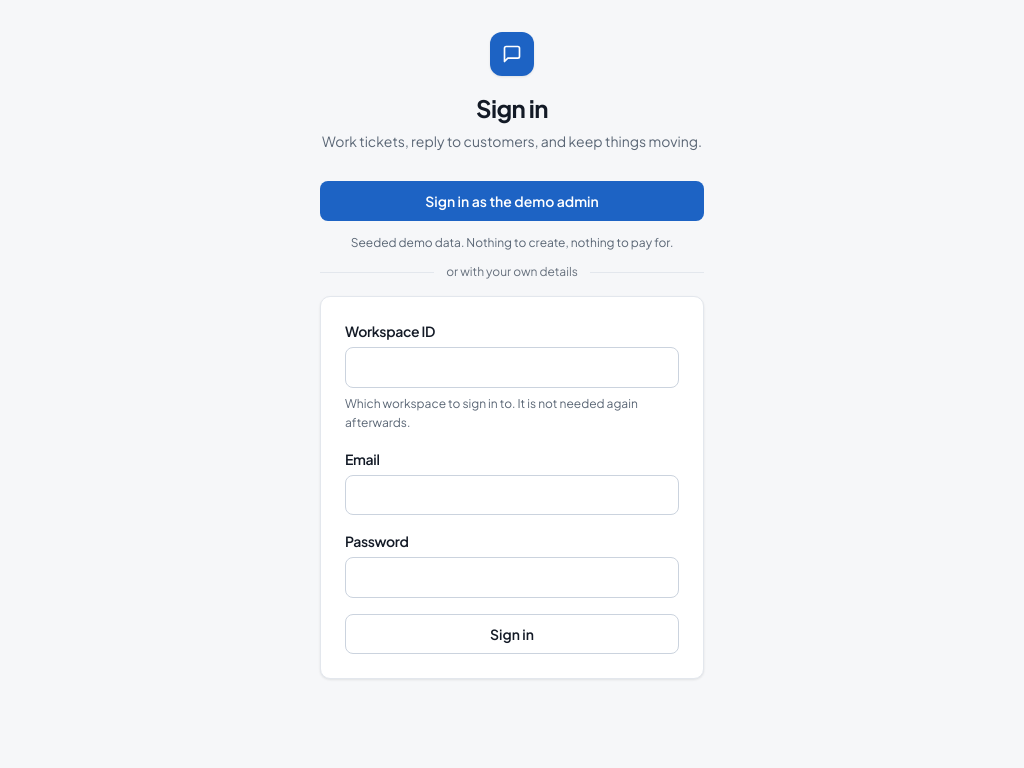
Test case: a User signing in › lands on the queue, with no further navigation to make
Type "ten_1" into the field labelled "Workspace ID" at (512, 368), box [345,347,679,388]
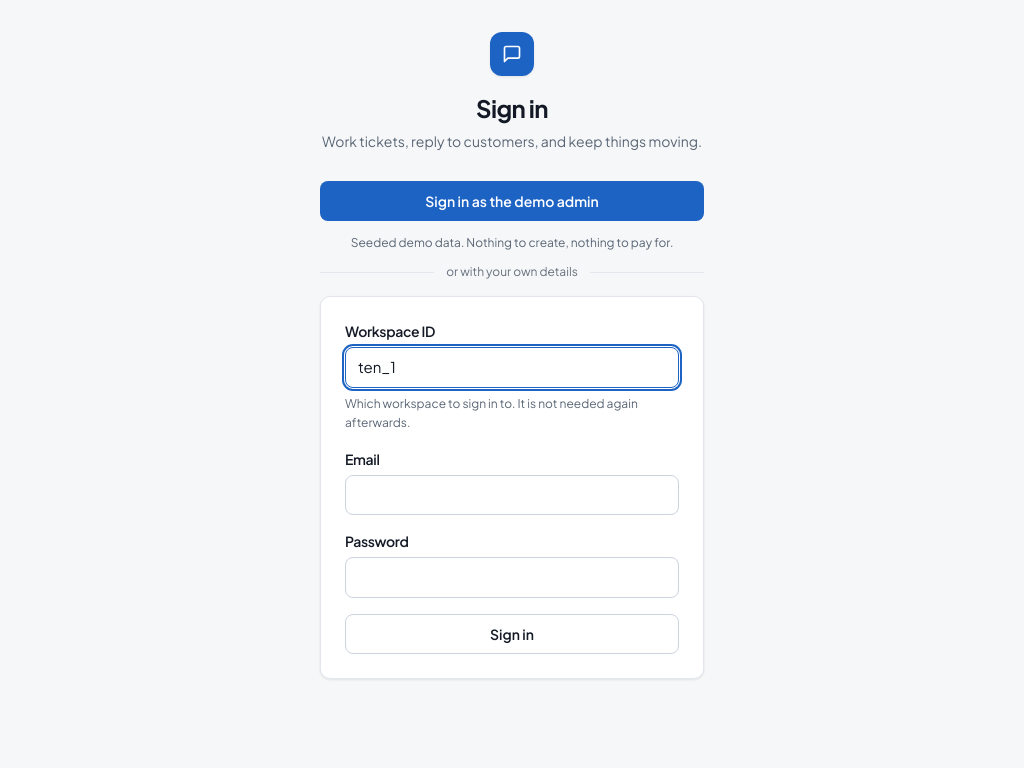
Type "sam@meridian.test" into the field labelled "Email" at (512, 495), box [345,475,679,515]
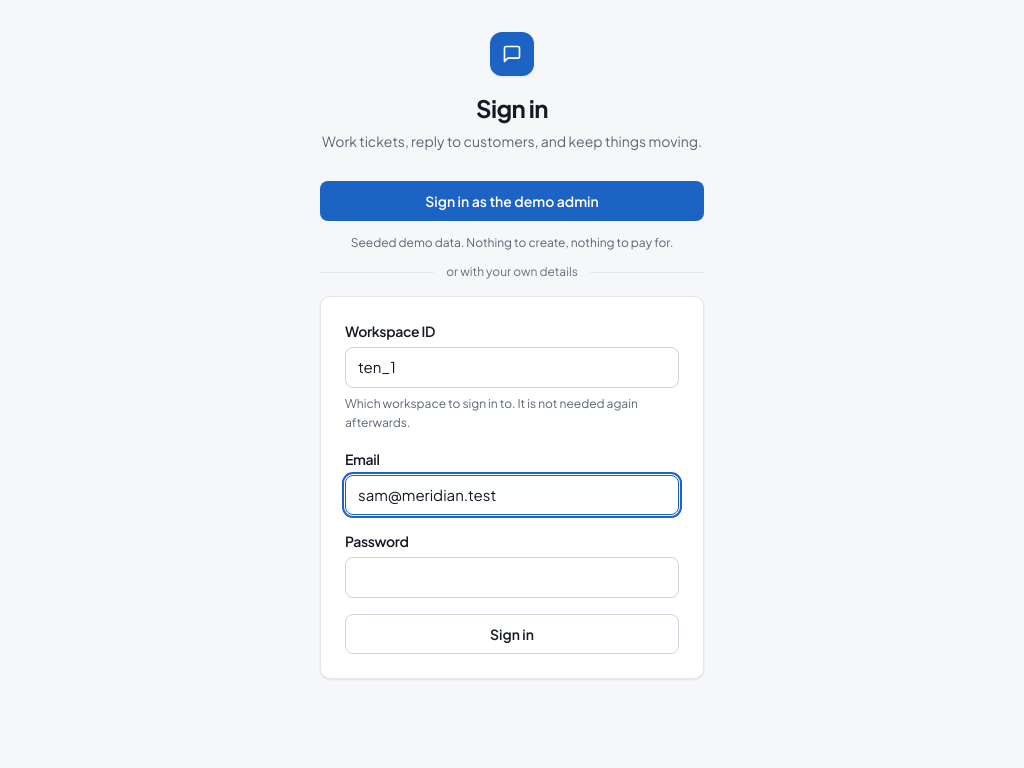
Type "hunter2" into the password field labelled "Password" at (512, 578), box [345,557,679,598]
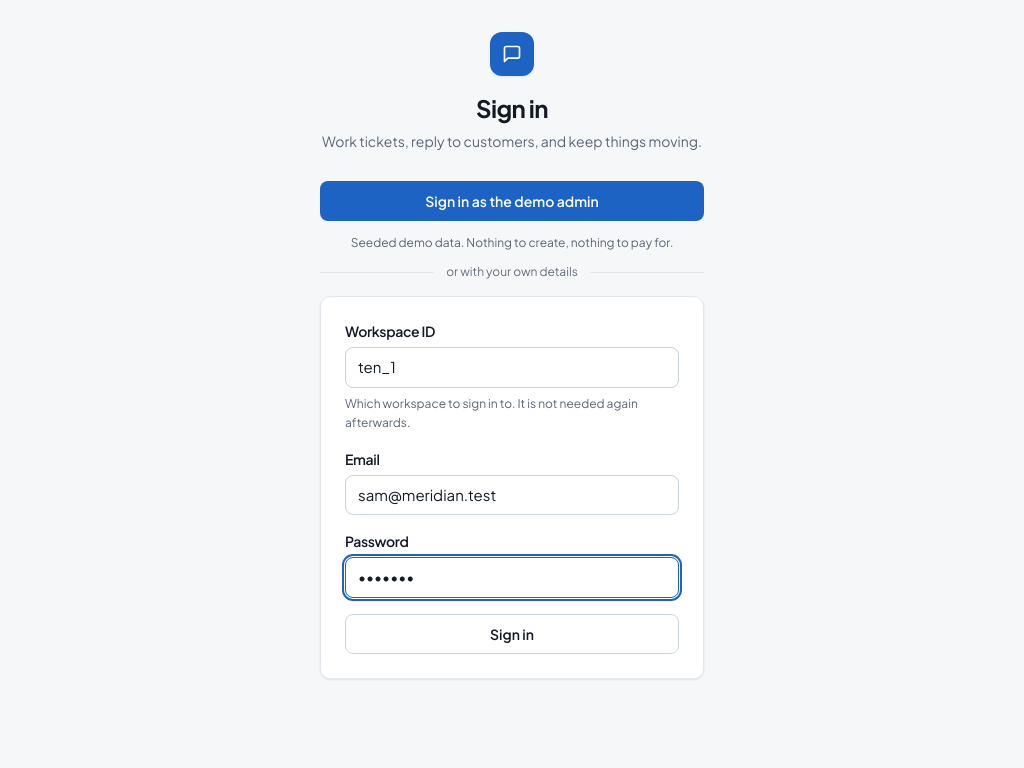
Click the button "Sign in" at (512, 634), box [345,614,679,654]
(page scrolled)
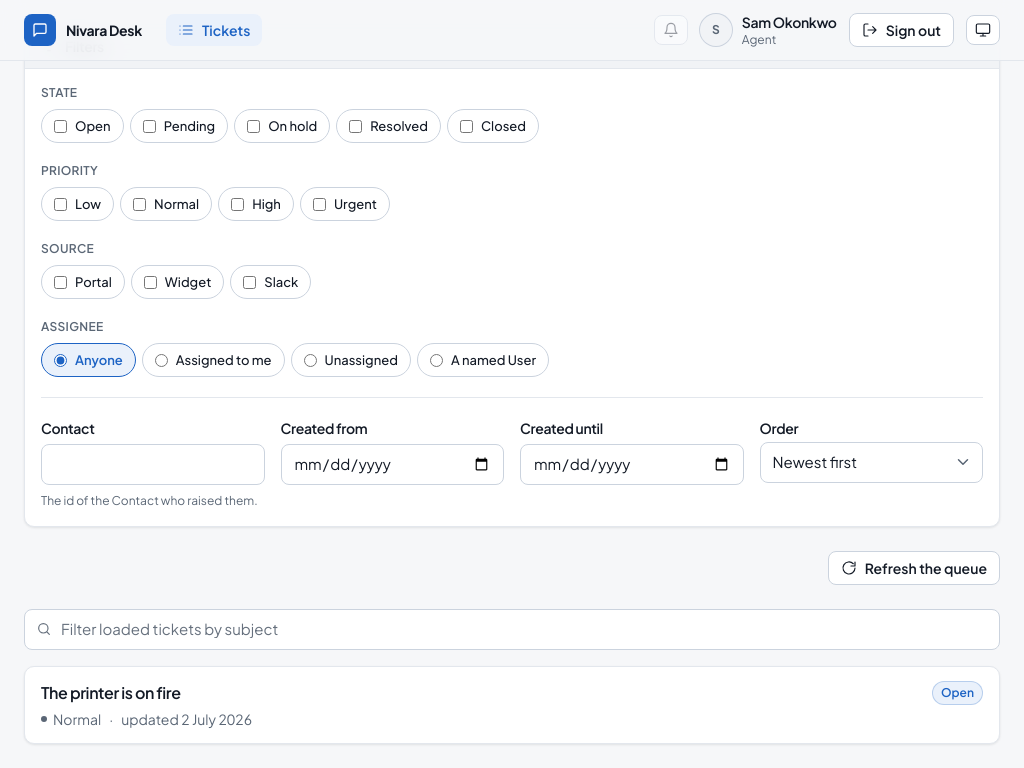
Expected: the list named "tickets" is shown, [24,666,1000,744]
Expected: the text "The printer is on fire" is shown, [41,682,181,702]
Expected: the label labelled "Password" is gone
